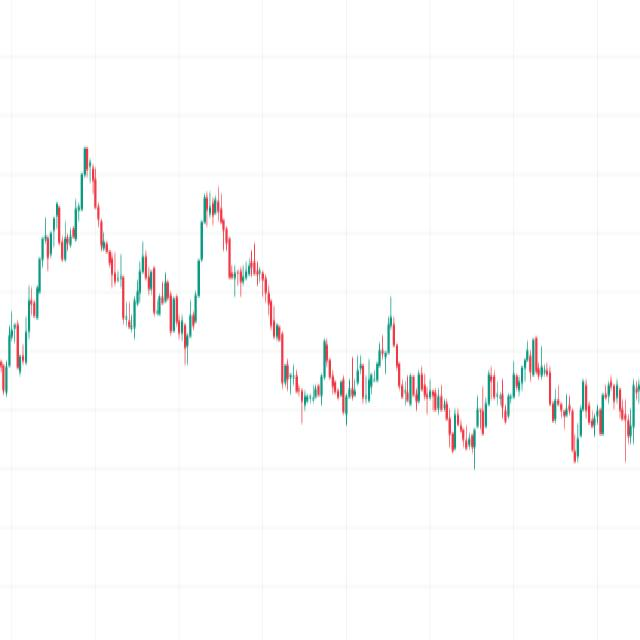Triple-Bottom: (270, 324, 396, 419)
